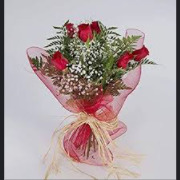RedRose: (76, 21, 95, 42)
